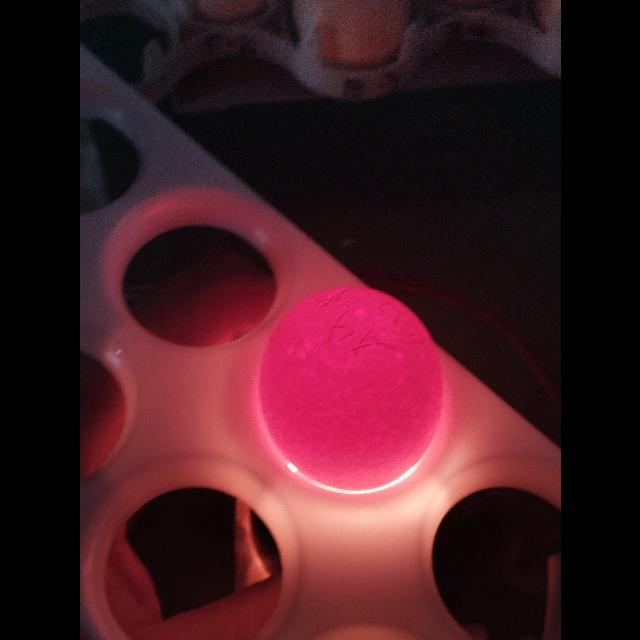Infertile: (255, 282, 450, 496)
